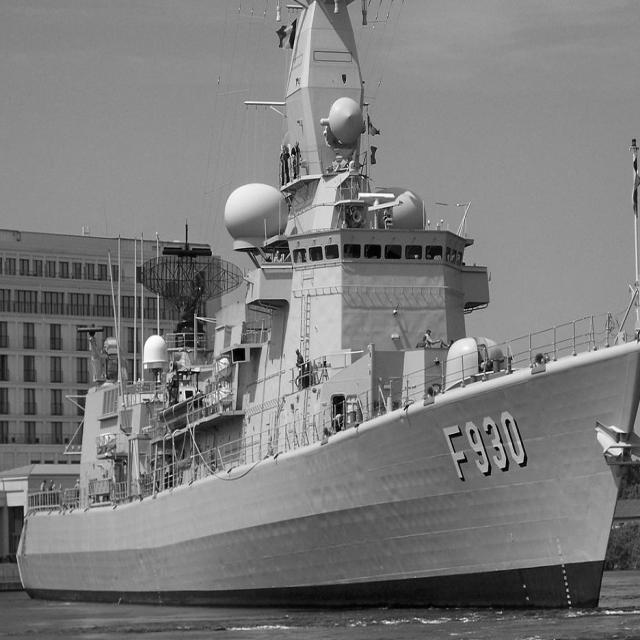Fragata: (1, 1, 413, 627)
